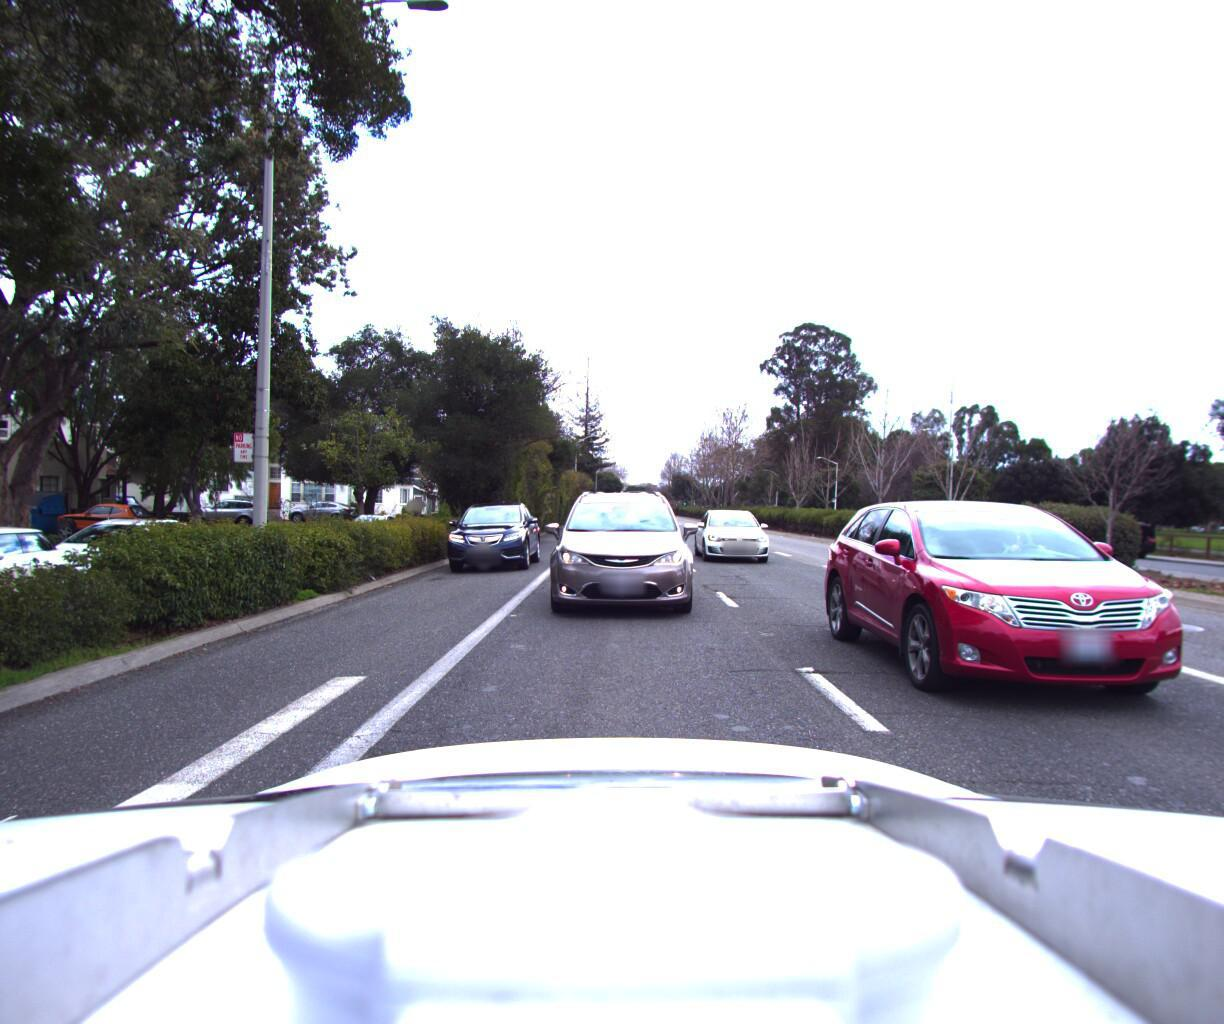car: (834, 494, 1224, 781), (539, 481, 688, 626), (17, 509, 218, 596), (442, 499, 540, 574), (693, 500, 785, 567), (43, 497, 159, 543), (1074, 515, 1165, 557), (180, 493, 274, 529), (335, 509, 404, 551), (286, 498, 357, 523)
